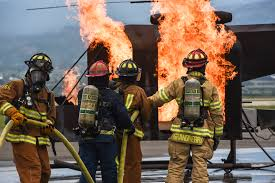emergent: (1, 53, 55, 183), (173, 49, 222, 183), (72, 62, 121, 183), (111, 60, 152, 180)
